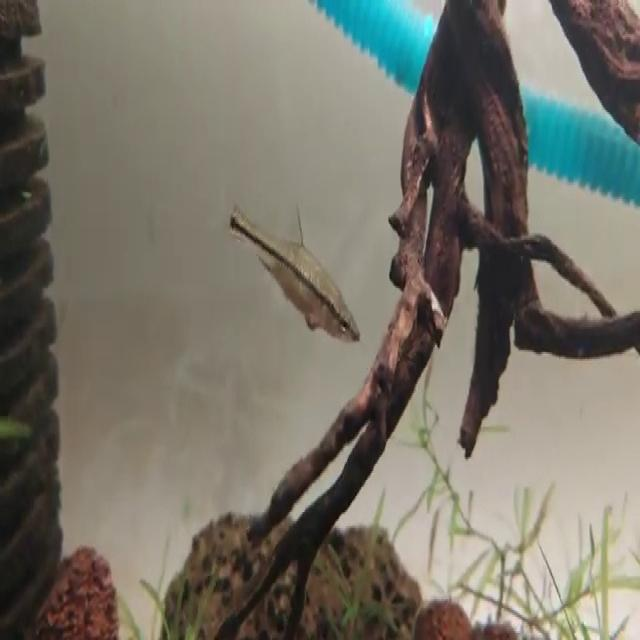Cakil Baligi: (232, 188, 363, 344)
